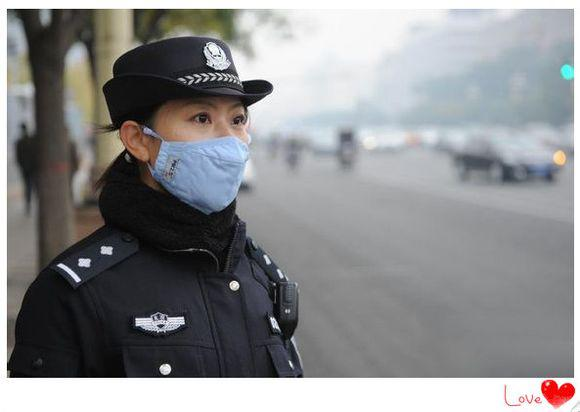OK: (152, 105, 256, 209)
